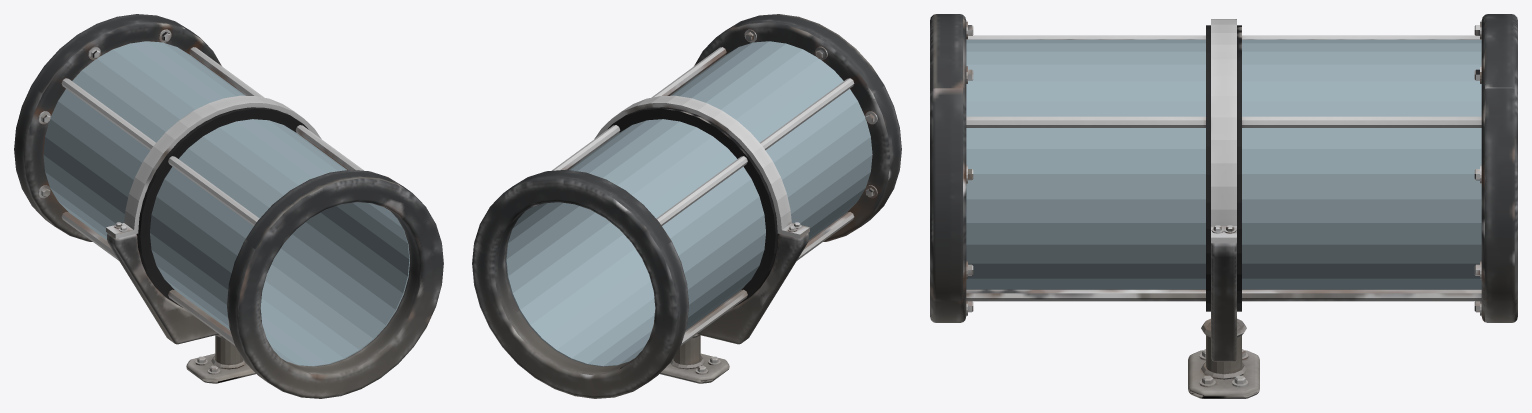
Rendered from SM_VacuumPipe.glb.
The picture shows the model from 3 angles, left to right: view 1: azimuth 30°, elevation 25°; view 2: azimuth 150°, elevation 25°; view 3: azimuth 270°, elevation 25°; orthographic projection. The views are drawn at different scales.
Parts seen in each view (by area): view 1: SM_VacuumPipe, SM_VacuumPipe_EndIn, SM_VacuumPipe_SupportHead, SM_VacuumPipe_EndOut, SM_VacuumPipe_SupportBase, SM_VacuumPipe_SupportPost; view 2: SM_VacuumPipe, SM_VacuumPipe_EndOut, SM_VacuumPipe_SupportHead, SM_VacuumPipe_EndIn, SM_VacuumPipe_SupportBase, SM_VacuumPipe_SupportPost; view 3: SM_VacuumPipe, SM_VacuumPipe_EndIn, SM_VacuumPipe_EndOut, SM_VacuumPipe_SupportHead, SM_VacuumPipe_SupportBase, SM_VacuumPipe_SupportPost.
Part boxes in pixels (bbox=[...]): SM_VacuumPipe: bbox=[43, 41, 409, 366]; SM_VacuumPipe_EndIn: bbox=[227, 169, 443, 398]; SM_VacuumPipe_SupportHead: bbox=[106, 95, 321, 344]; SM_VacuumPipe_EndOut: bbox=[14, 14, 221, 241]; SM_VacuumPipe_SupportBase: bbox=[186, 353, 255, 383]; SM_VacuumPipe_SupportPost: bbox=[215, 334, 242, 364]; SM_VacuumPipe: bbox=[506, 41, 872, 366]; SM_VacuumPipe_EndOut: bbox=[472, 169, 688, 398]; SM_VacuumPipe_SupportHead: bbox=[594, 95, 809, 344]; SM_VacuumPipe_EndIn: bbox=[694, 14, 901, 241]; SM_VacuumPipe_SupportBase: bbox=[660, 353, 729, 383]; SM_VacuumPipe_SupportPost: bbox=[673, 334, 700, 364]; SM_VacuumPipe: bbox=[966, 35, 1481, 301]; SM_VacuumPipe_EndIn: bbox=[930, 14, 973, 322]; SM_VacuumPipe_EndOut: bbox=[1474, 14, 1517, 322]; SM_VacuumPipe_SupportHead: bbox=[1206, 19, 1241, 361]; SM_VacuumPipe_SupportBase: bbox=[1188, 349, 1259, 398]; SM_VacuumPipe_SupportPost: bbox=[1201, 318, 1246, 373].
Size of the model in its own units: 0.686 by 0.75 by 1.14.
Materials: 5 (4 with a texture image).
